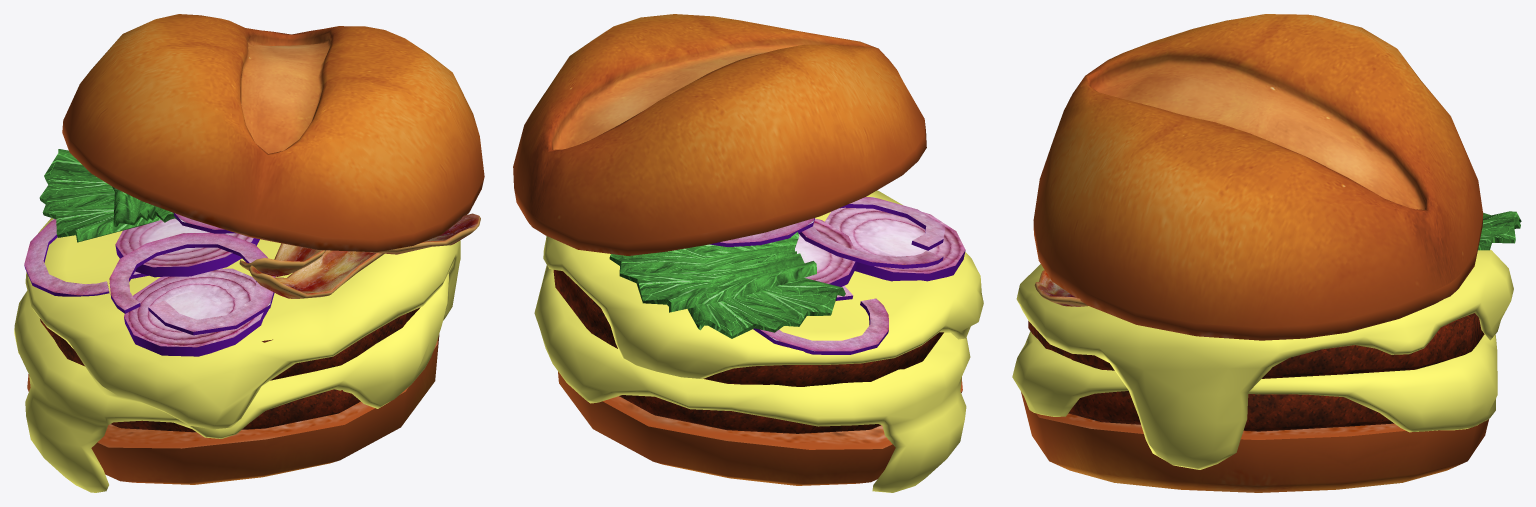
Rendered from BurgerFBX.FBX.
3 views of the same model, side by side, from view 1: azimuth 30°, elevation 25°; view 2: azimuth 150°, elevation 25°; view 3: azimuth 270°, elevation 25° (orthographic). The views are drawn at different scales.
Parts seen in each view (by area): view 1: Cylinder002, Cylinder008, Cylinder004, Cylinder001, Cylinder005, Line003, Plane001, Cylinder006, Line004, Cylinder003, Line002, Cylinder007 (+3 smaller); view 2: Cylinder002, Cylinder004, Cylinder008, Cylinder001, Plane002, Cylinder007, Cylinder005, Plane001, Line003, Cylinder003, Line002, Cylinder006 (+1 smaller); view 3: Cylinder002, Cylinder008, Cylinder001, Cylinder004, Cylinder007, Cylinder003, Plane002, Line006.
Part boxes in pixels (bbox=[...]): Cylinder002: bbox=[62, 14, 484, 252]; Cylinder008: bbox=[25, 218, 460, 429]; Cylinder004: bbox=[14, 273, 449, 492]; Cylinder001: bbox=[27, 334, 439, 484]; Cylinder005: bbox=[124, 268, 268, 356]; Line003: bbox=[109, 232, 275, 335]; Plane001: bbox=[39, 149, 160, 242]; Cylinder006: bbox=[115, 218, 259, 277]; Line004: bbox=[249, 250, 384, 298]; Cylinder003: bbox=[111, 389, 360, 432]; Line002: bbox=[24, 219, 148, 296]; Cylinder007: bbox=[40, 307, 420, 380]; Cylinder002: bbox=[513, 14, 926, 255]; Cylinder004: bbox=[534, 265, 970, 492]; Cylinder008: bbox=[543, 190, 983, 379]; Cylinder001: bbox=[558, 371, 962, 485]; Plane002: bbox=[609, 232, 816, 312]; Cylinder007: bbox=[553, 270, 943, 386]; Cylinder005: bbox=[825, 207, 965, 281]; Plane001: bbox=[685, 250, 845, 338]; Line003: bbox=[799, 197, 945, 268]; Cylinder003: bbox=[619, 395, 880, 433]; Line002: bbox=[753, 285, 888, 354]; Cylinder006: bbox=[795, 218, 857, 286]; Cylinder002: bbox=[1033, 14, 1483, 340]; Cylinder008: bbox=[1016, 249, 1513, 469]; Cylinder001: bbox=[1021, 392, 1488, 492]; Cylinder004: bbox=[1012, 331, 1497, 432]; Cylinder007: bbox=[1028, 313, 1484, 378]; Cylinder003: bbox=[1068, 391, 1393, 431]; Plane002: bbox=[1478, 217, 1520, 250]; Line006: bbox=[1034, 270, 1087, 306].
Size of the model in its own units: 97.41 by 91.03 by 92.31.
8 materials, 7 textured.
